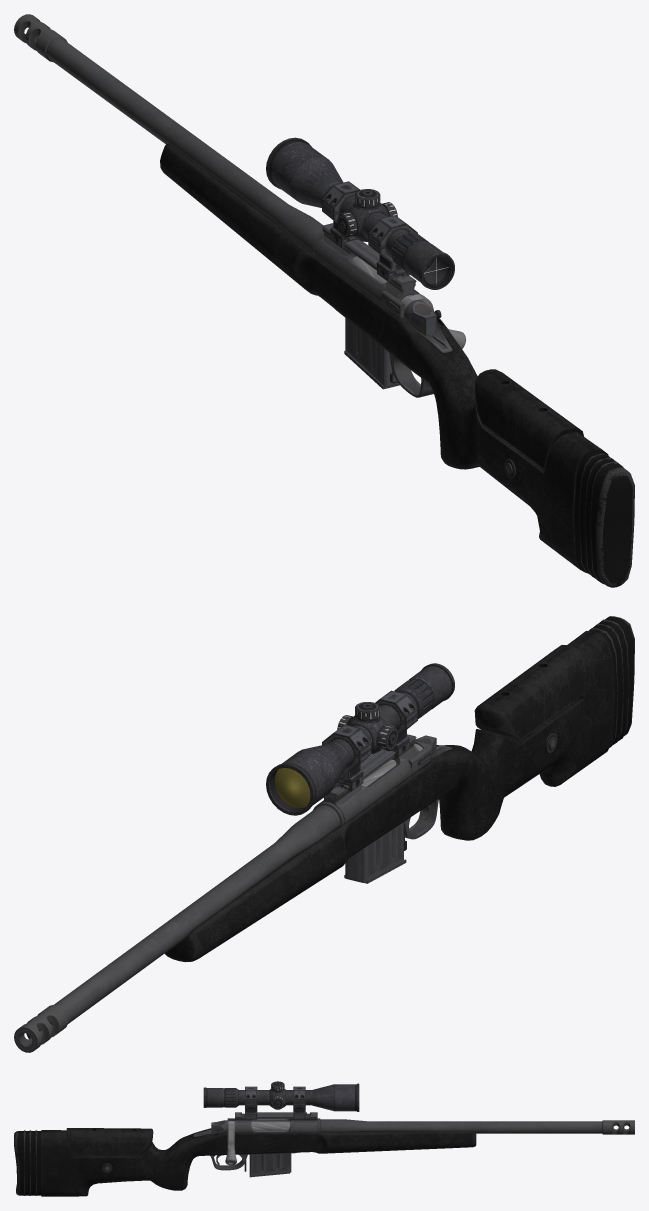
Rendered from sniper.glb.
3 renders of one model, top to bottom at view 1: azimuth 30°, elevation 25°; view 2: azimuth 150°, elevation 25°; view 3: azimuth 270°, elevation 25°, orthographic. The views are drawn at different scales.
Visible parts, largest first — view 1: base, scope_sniper_0.001, mag, boltrear; view 2: base, scope_sniper_0.001, mag; view 3: base, scope_sniper_0.001, mag, bolt_sniper_0, boltrear.
Boxes of the visible parts, x1,y1,x2,y2 form: base: (14, 14, 634, 587); scope_sniper_0.001: (266, 137, 454, 289); mag: (344, 318, 399, 389); boltrear: (404, 299, 436, 337); base: (14, 616, 634, 1052); scope_sniper_0.001: (266, 663, 454, 815); mag: (344, 822, 406, 883); base: (14, 1112, 634, 1196); scope_sniper_0.001: (203, 1081, 359, 1119); mag: (249, 1153, 291, 1177); bolt_sniper_0: (225, 1121, 290, 1165); boltrear: (211, 1120, 227, 1133).
Size of the model in its own units: 0.1299 by 0.3402 by 1.71.
2 materials, 1 textured.
